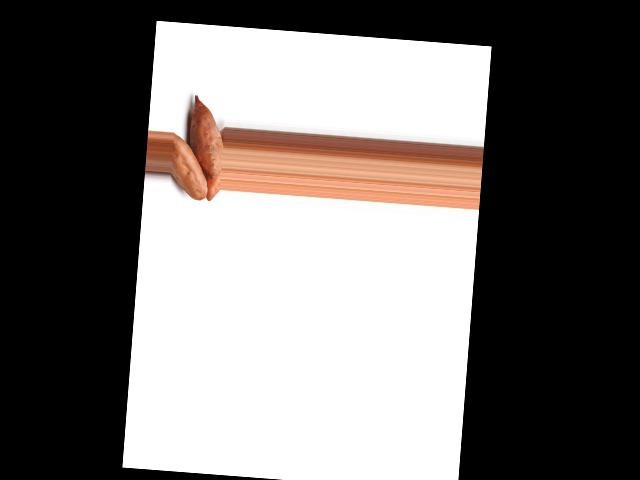sweet_potato: (168, 128, 211, 201)
